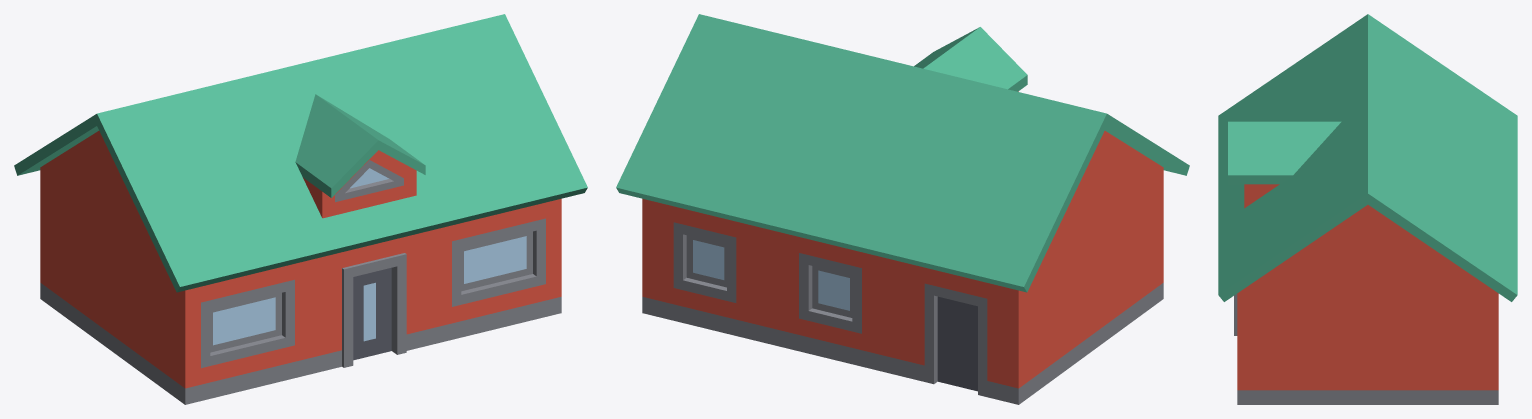
The model's file is house_type07.obj.
The picture shows the model from 3 angles, left to right: view 1: azimuth 30°, elevation 25°; view 2: azimuth 150°, elevation 25°; view 3: azimuth 270°, elevation 25°; orthographic projection. The views are drawn at different scales.
Visible parts, largest first — view 1: house_type07; view 2: house_type07; view 3: house_type07.
Part boxes in pixels (x1,y1,x2,y2): house_type07: [14, 14, 587, 404]; house_type07: [616, 14, 1189, 404]; house_type07: [1218, 14, 1517, 404].
Bounding box in the file's own units: 1.49 × 0.848 × 1.05.
